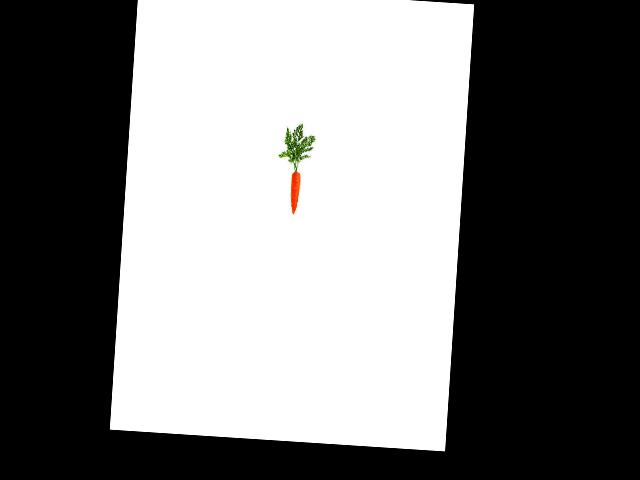carrot: (286, 170, 301, 216)
